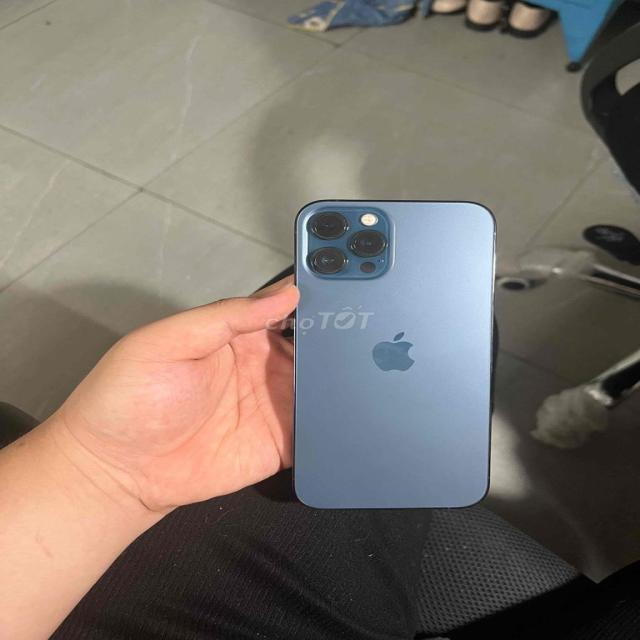gen_12_13: (293, 198, 499, 518)
